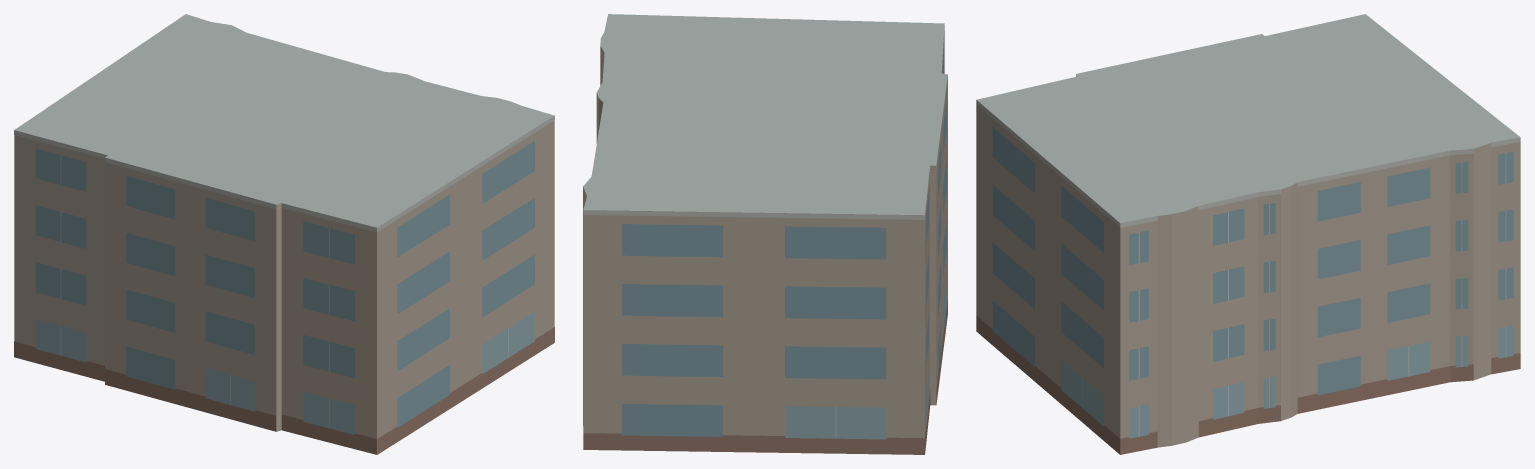
File: survey-upis-32580922.glb
3 views of the same model, side by side, from view 1: azimuth 30°, elevation 25°; view 2: azimuth 150°, elevation 25°; view 3: azimuth 270°, elevation 25° (orthographic). The views are drawn at different scales.
Parts seen in each view (by area): view 1: survey-upis-32580922.tmp; view 2: survey-upis-32580922.tmp; view 3: survey-upis-32580922.tmp.
Part boxes in pixels (x1,y1,x2,y2): survey-upis-32580922.tmp: [14, 14, 554, 454]; survey-upis-32580922.tmp: [583, 14, 947, 454]; survey-upis-32580922.tmp: [976, 14, 1520, 454].
Bounding box in the file's own units: 23.64 × 12.2 × 25.99.
